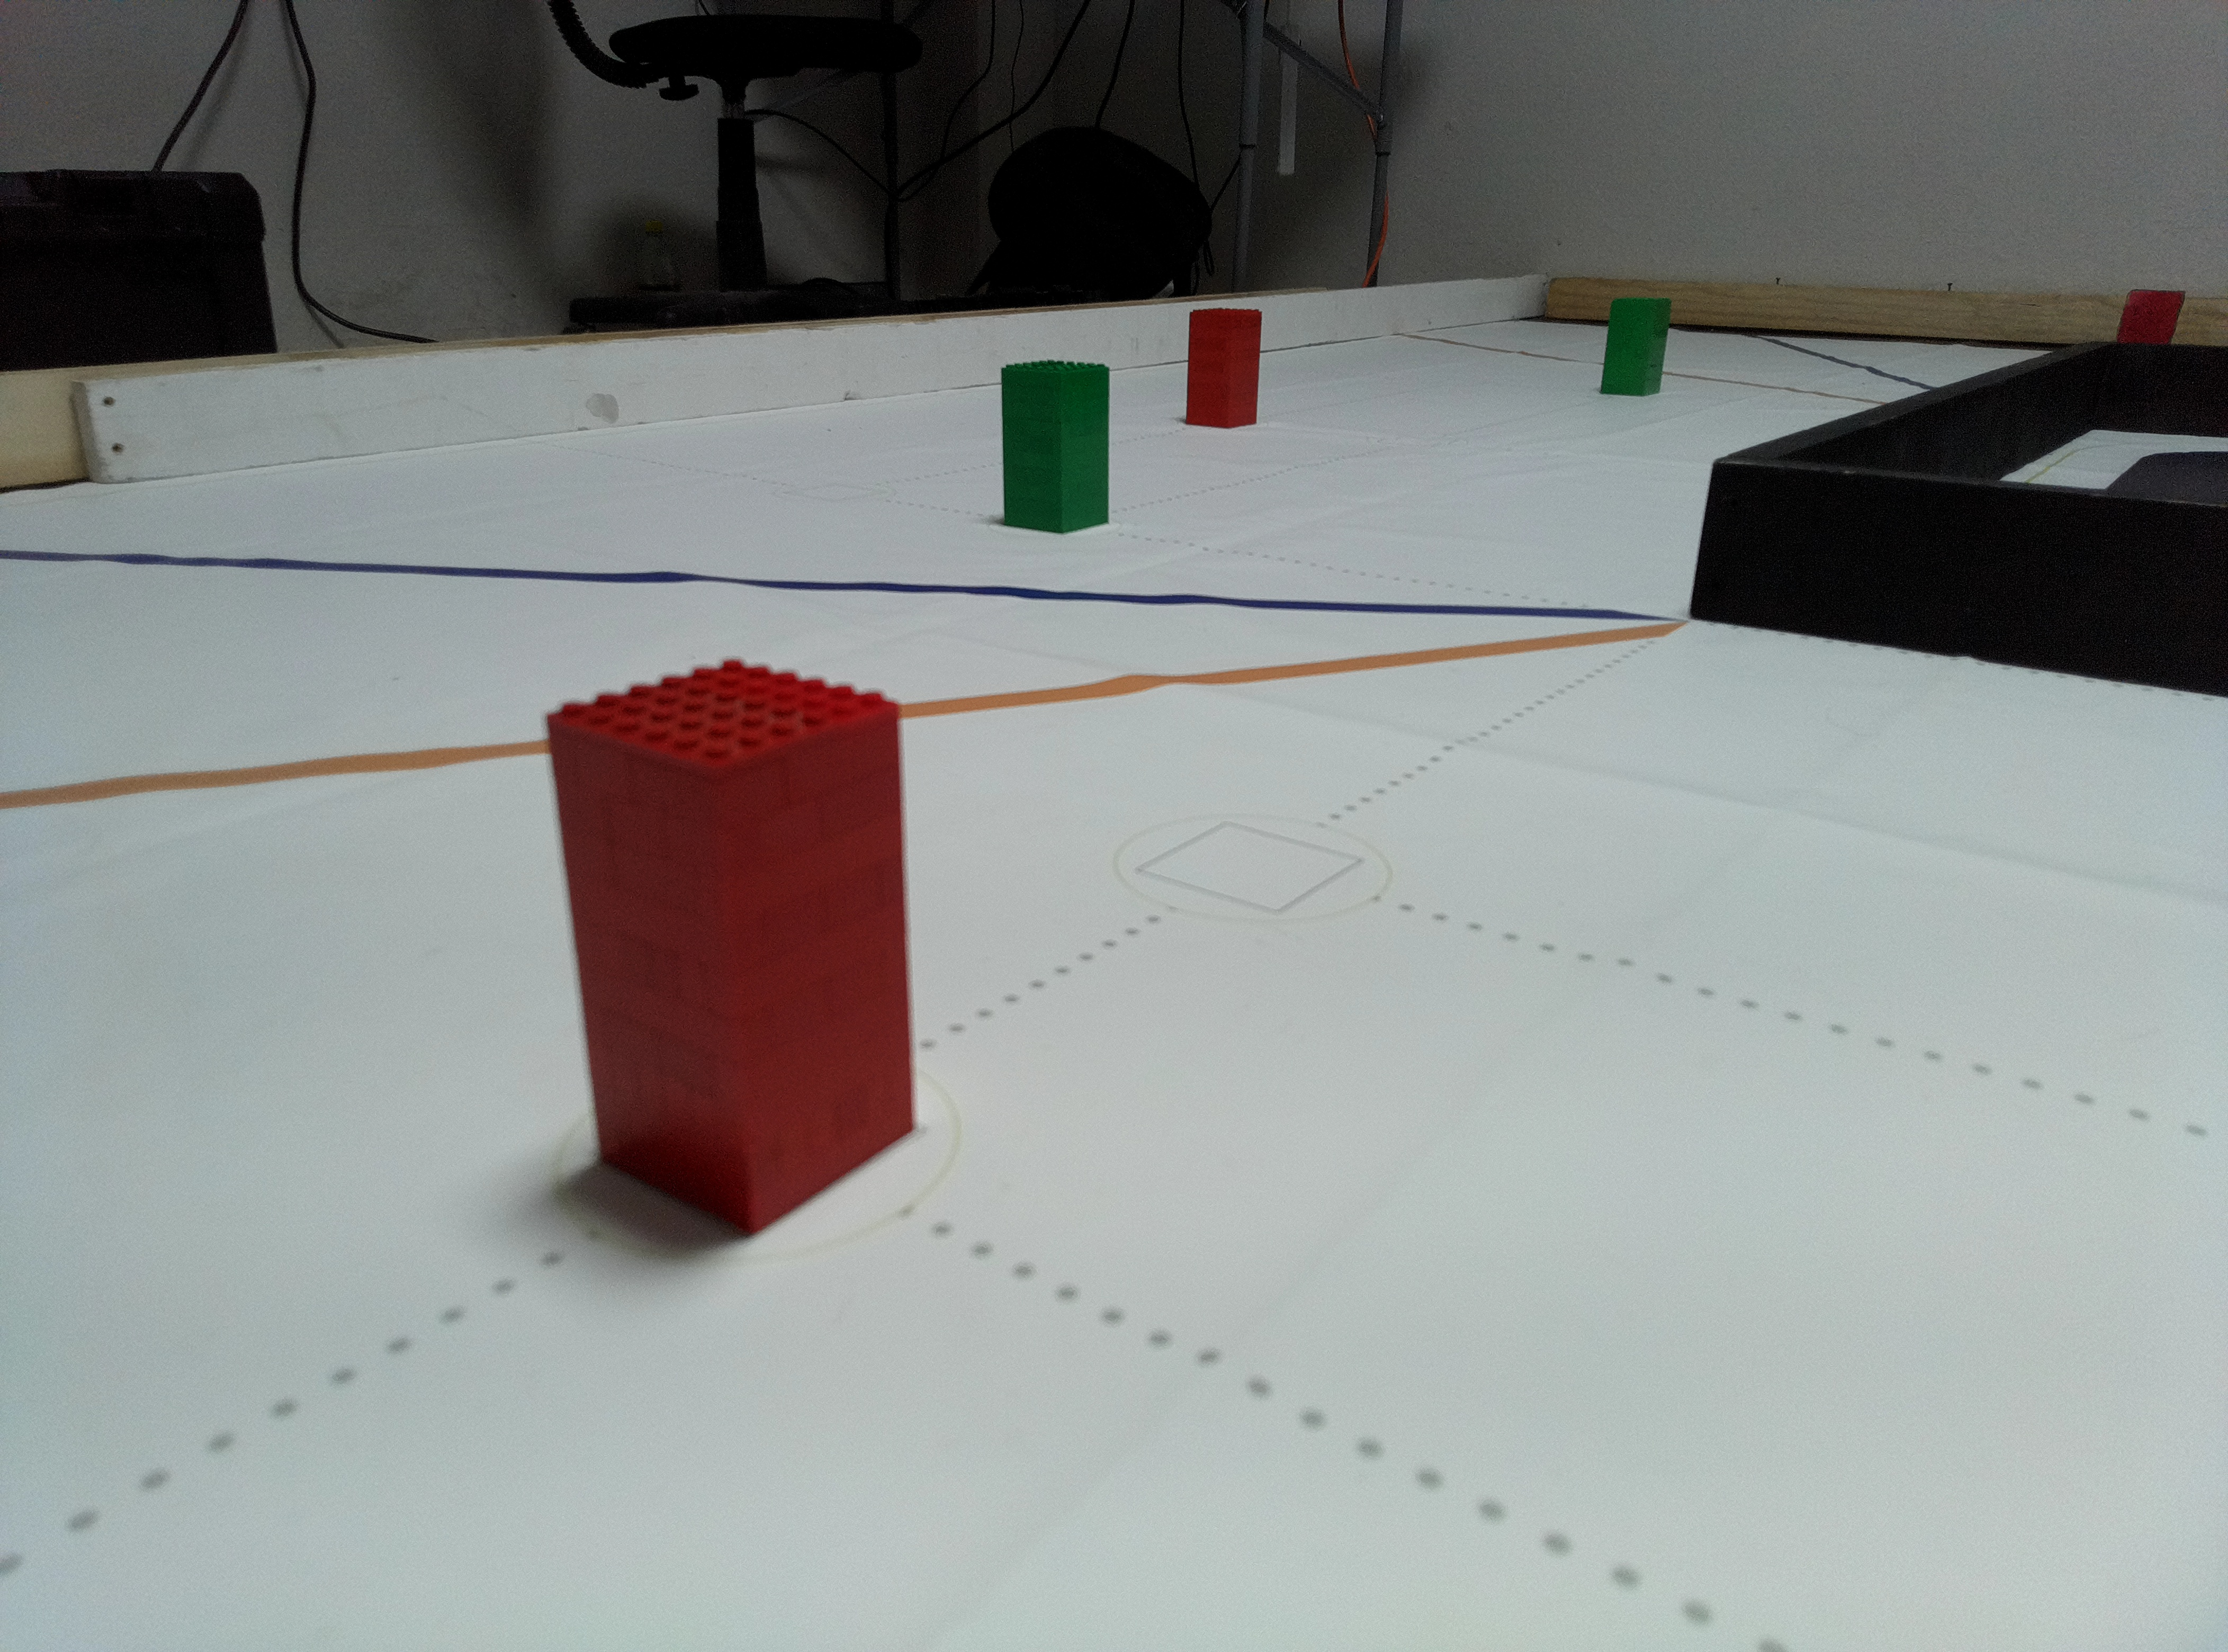greenbox: (998, 358, 1115, 536), (1598, 297, 1675, 398)
redbox: (536, 653, 919, 1251), (1183, 307, 1266, 429), (2112, 288, 2189, 344)
